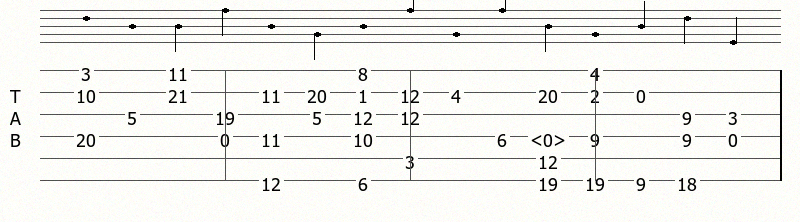0: (220, 128, 234, 145), (636, 84, 650, 101), (728, 128, 742, 145)
1: (358, 84, 372, 101)
10: (76, 84, 100, 101), (353, 128, 377, 145)
11: (168, 62, 192, 79), (261, 128, 285, 145), (261, 84, 285, 101)
12: (261, 172, 285, 189), (353, 106, 377, 123), (400, 84, 424, 101), (400, 106, 424, 123), (538, 150, 562, 167)
18: (677, 172, 701, 189)
19: (215, 106, 239, 123), (538, 172, 562, 189), (585, 172, 609, 189)
2: (590, 84, 604, 101)
20: (76, 128, 100, 145), (307, 84, 331, 101), (538, 84, 562, 101)
21: (168, 84, 192, 101)
3: (81, 62, 95, 79), (405, 150, 419, 167), (728, 106, 742, 123)
4: (451, 84, 465, 101), (590, 62, 604, 79)
5: (127, 106, 141, 123), (312, 106, 326, 123)
6: (358, 172, 372, 189), (497, 128, 511, 145)
8: (358, 62, 372, 79)
9: (590, 128, 604, 145), (636, 172, 650, 189), (682, 106, 696, 123), (682, 128, 696, 145)
harmonic: (530, 128, 570, 145)
